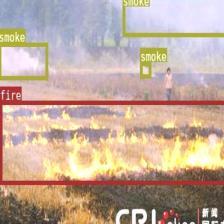fire: (0, 100, 224, 184)
smoke: (122, 0, 224, 36), (0, 41, 47, 79), (140, 62, 150, 77)
